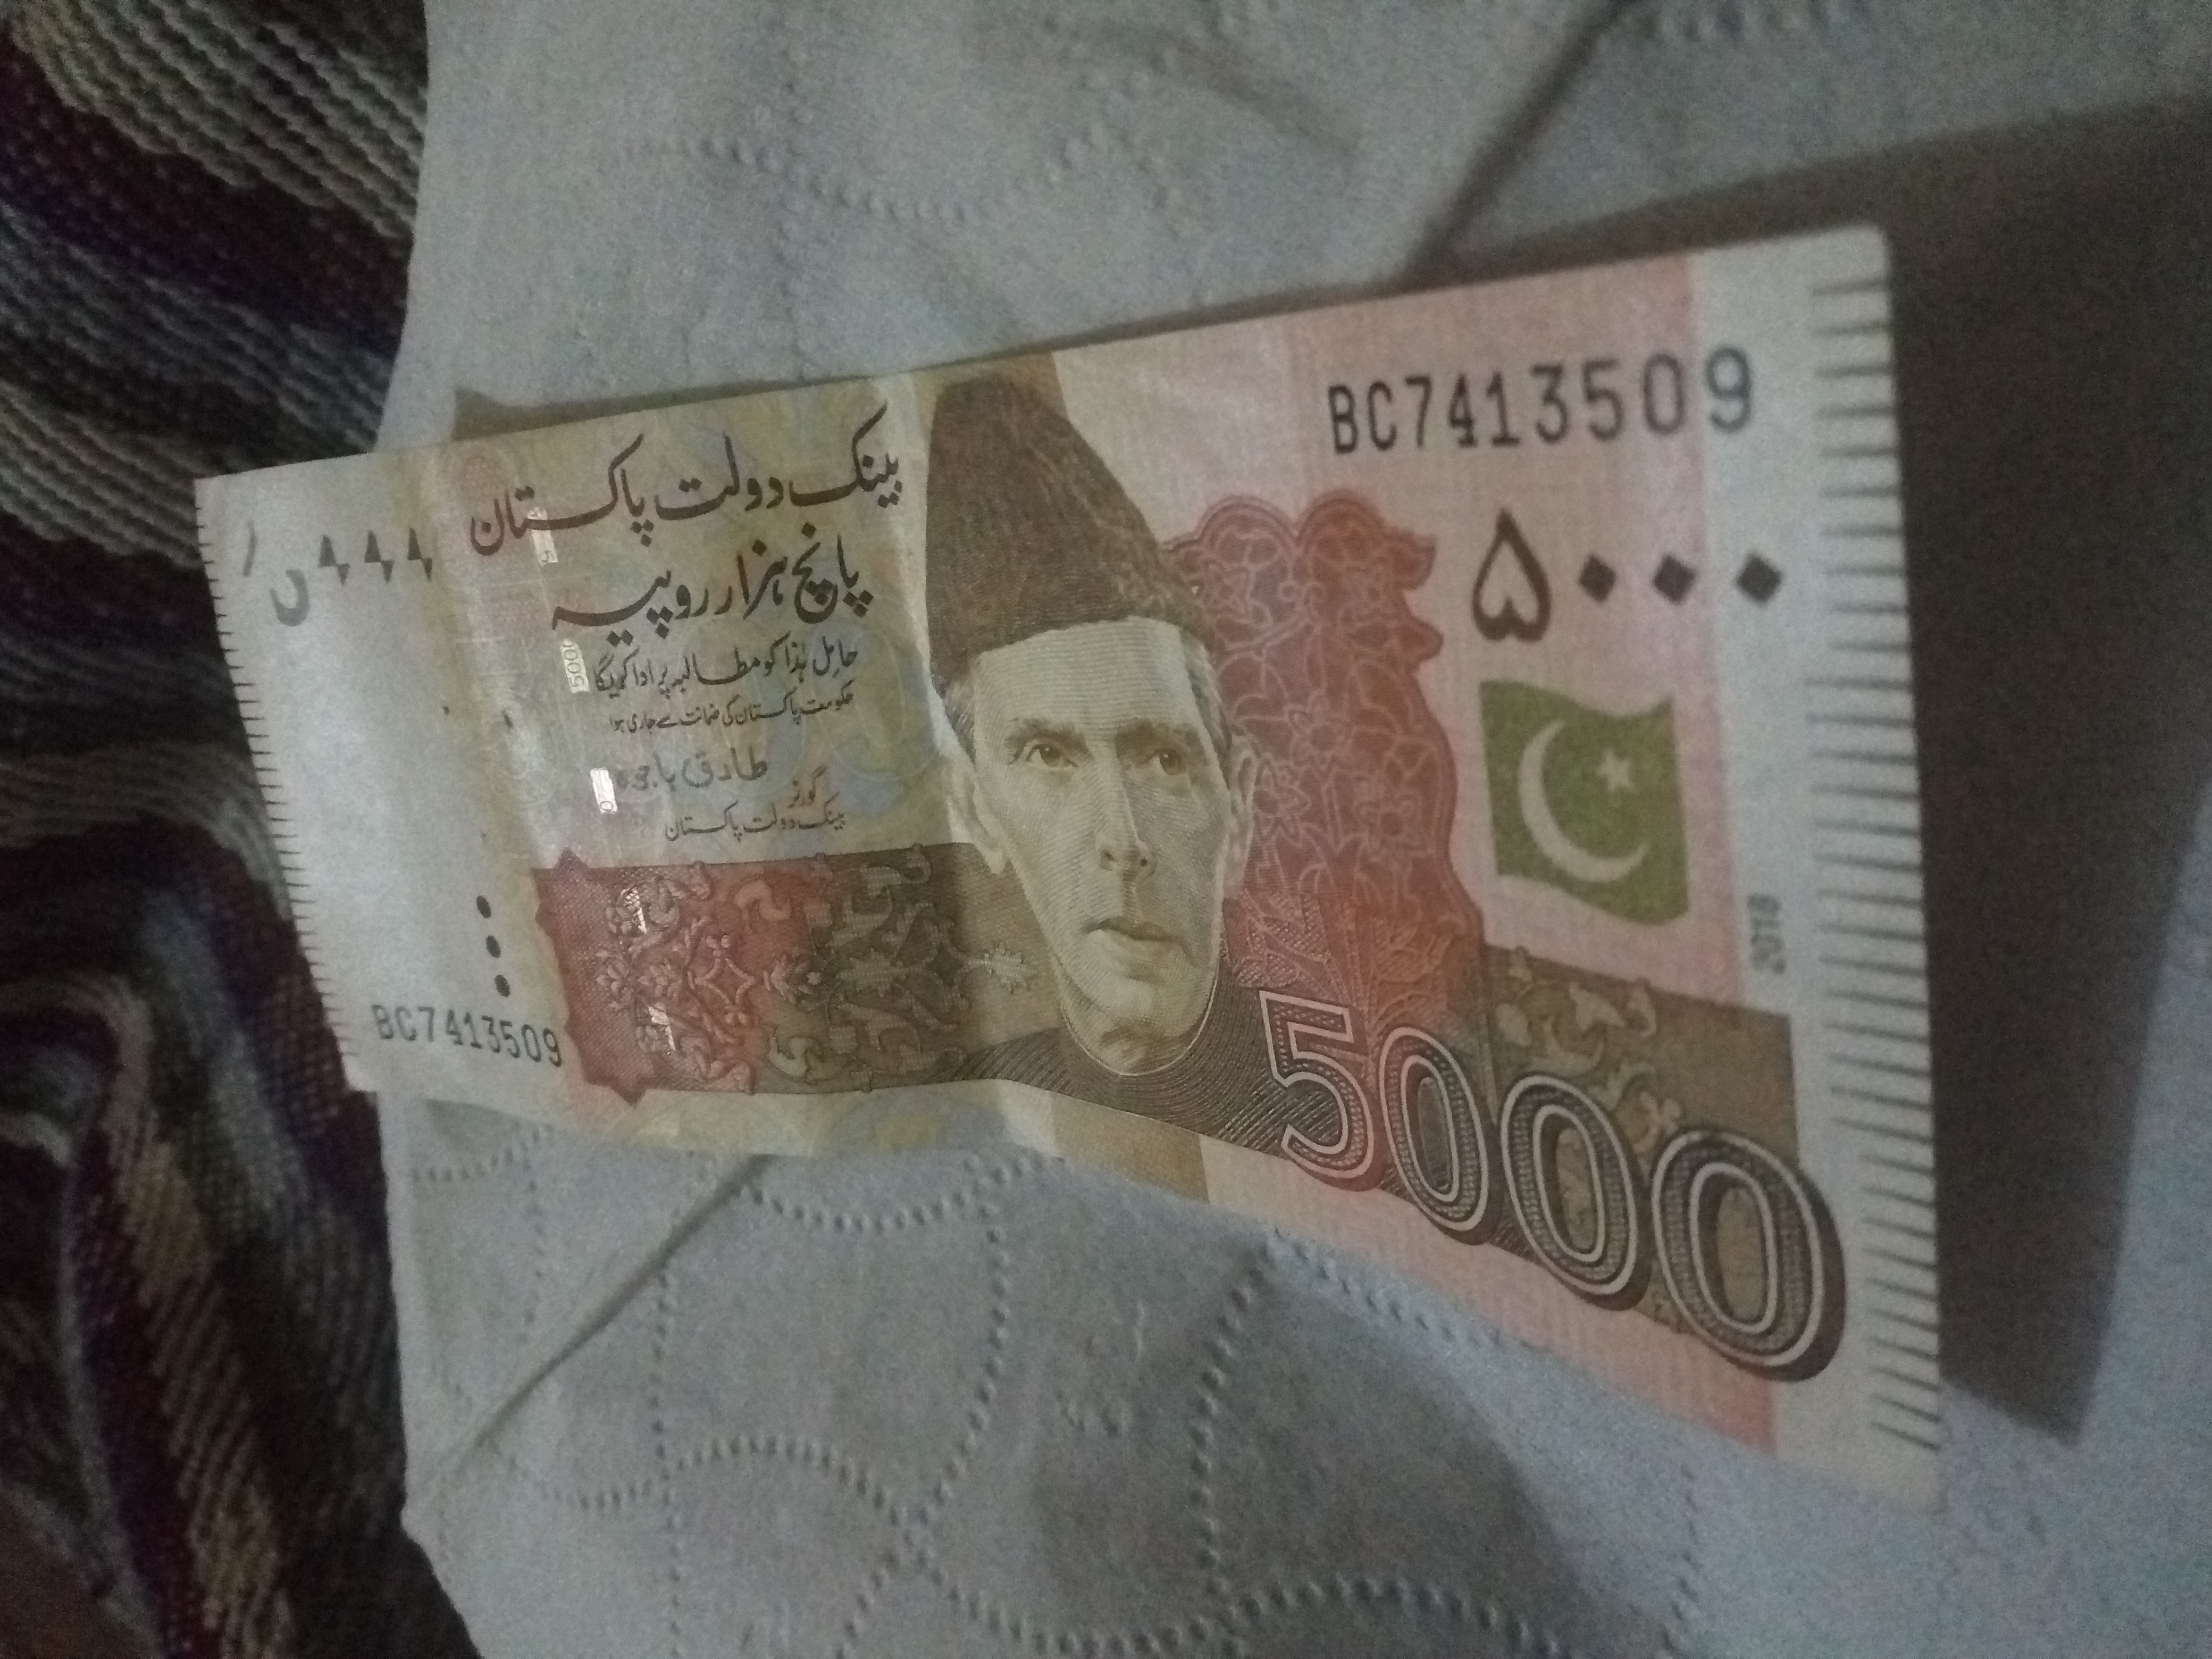5000 rupee: (195, 282, 2055, 1466)
